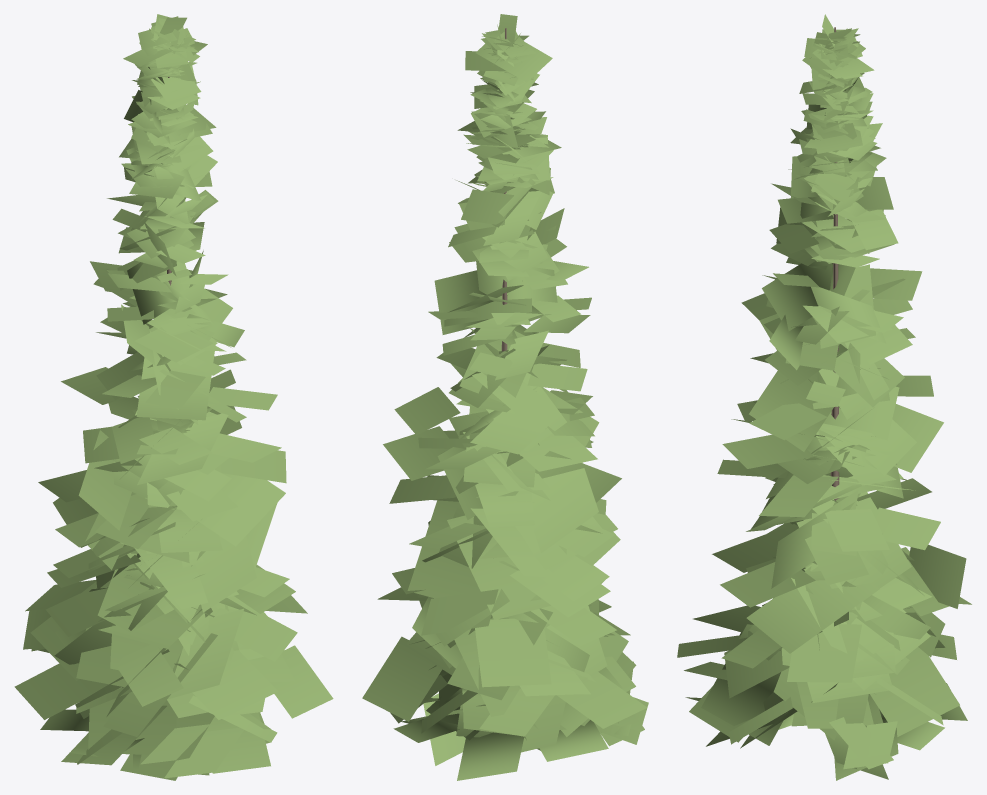
Rendered from Conifer_11_young_lod2.glb.
3 renders of one model, left to right at view 1: azimuth 30°, elevation 25°; view 2: azimuth 150°, elevation 25°; view 3: azimuth 270°, elevation 25°, orthographic.
Parts seen in each view (by area): view 1: Conifer_11_young_lod2; view 2: Conifer_11_young_lod2; view 3: Conifer_11_young_lod2.
Boxes of the visible parts, x1,y1,x2,y2 form: Conifer_11_young_lod2: (14,14,333,780); Conifer_11_young_lod2: (362,14,648,780); Conifer_11_young_lod2: (677,14,971,780).
Bounding box in the file's own units: 2.75 × 7.67 × 2.77.
